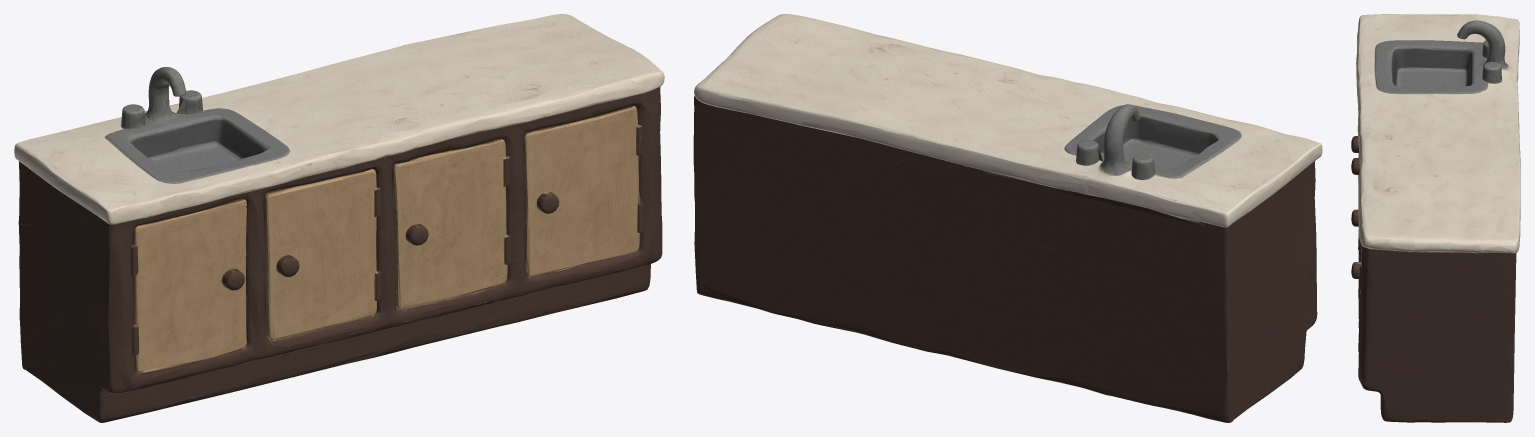
3 views of the same model, side by side, from view 1: azimuth 30°, elevation 25°; view 2: azimuth 150°, elevation 25°; view 3: azimuth 270°, elevation 25° (orthographic). The views are drawn at different scales.
Visible parts, largest first — view 1: Mesh_0; view 2: Mesh_0; view 3: Mesh_0.
Boxes of the visible parts, box(x1,y1,x2,y2) form: Mesh_0: box(14, 14, 664, 422); Mesh_0: box(693, 14, 1322, 422); Mesh_0: box(1351, 14, 1520, 422).
Bounding box in the file's own units: 1.9 × 0.9079 × 0.5999.
1 material, 1 textured.
